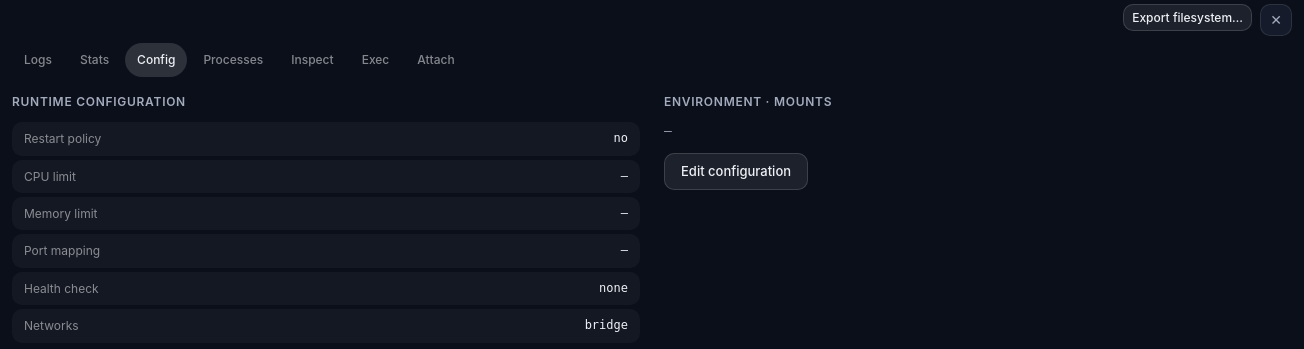
it: ContainerDetailPanel — Stats and Processes tabs (REQ-32, REQ-33) › reads and shows the process listing when the Processes tab is selected
Click the tab "Processes".
click(233, 60)  # box [191,43,275,77]
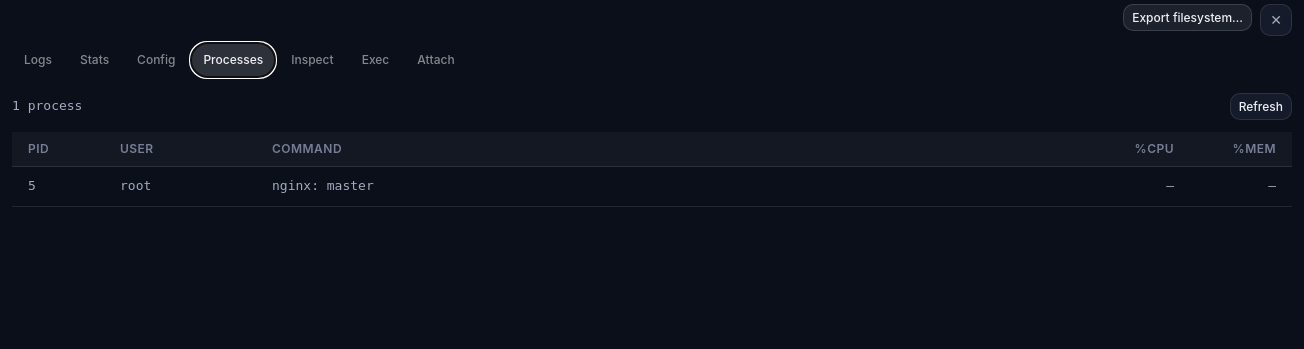
expect the text "nginx: master" is shown: met, box [272,178,374,193]
